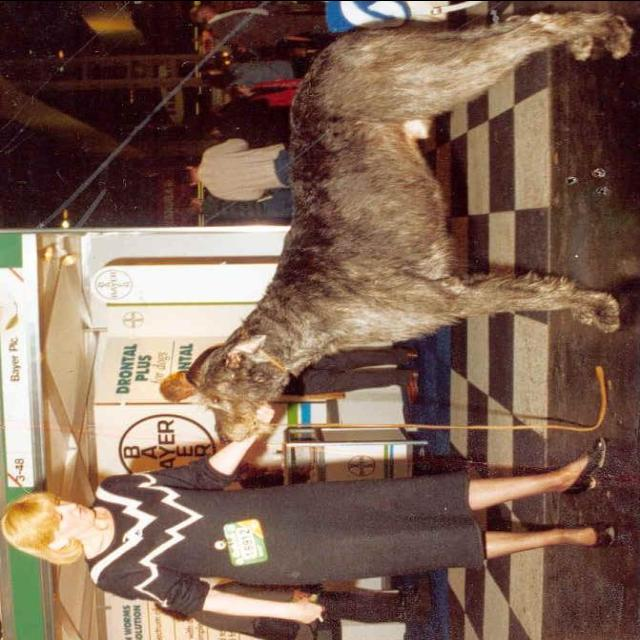irish_wolfhound: (161, 9, 638, 446)
